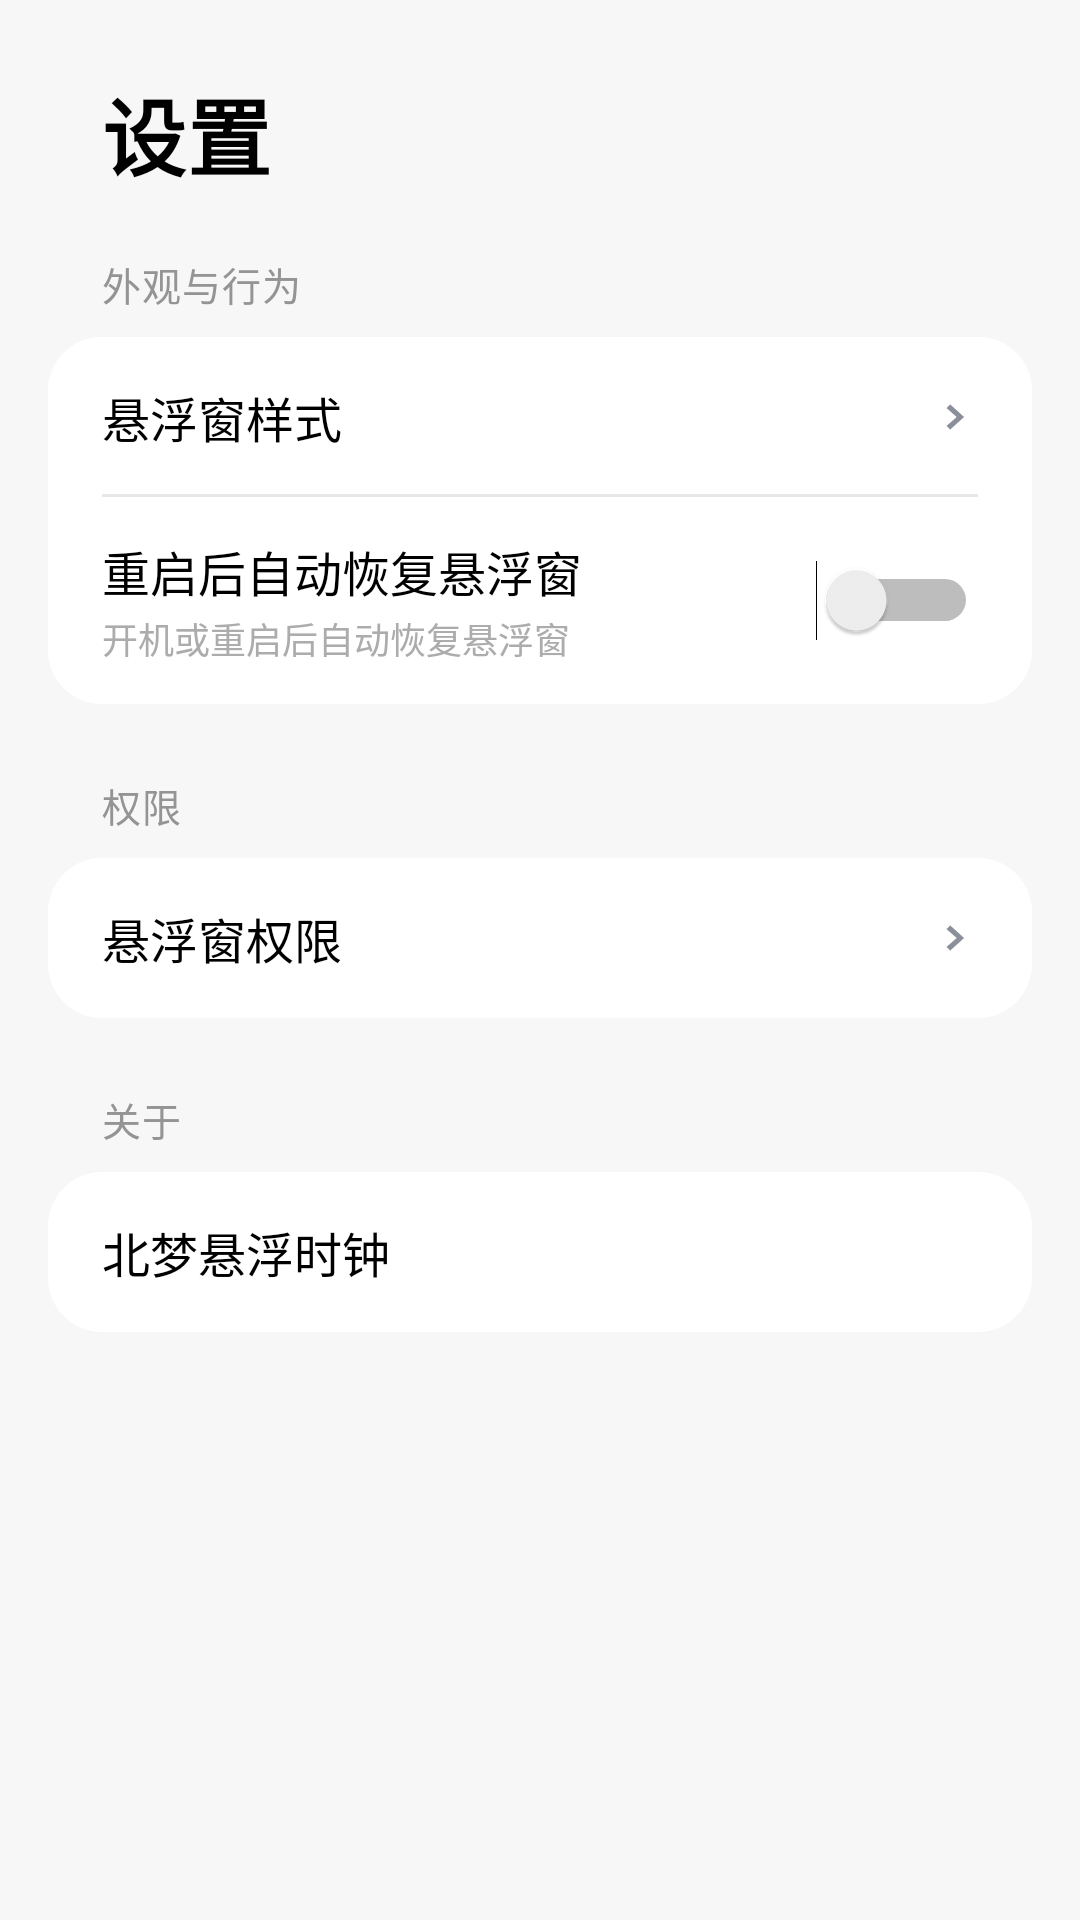

Icon click points for this 1080w x 1920h phone screenshot, format [x,y]:
chevron: [955,417], [955,938]
